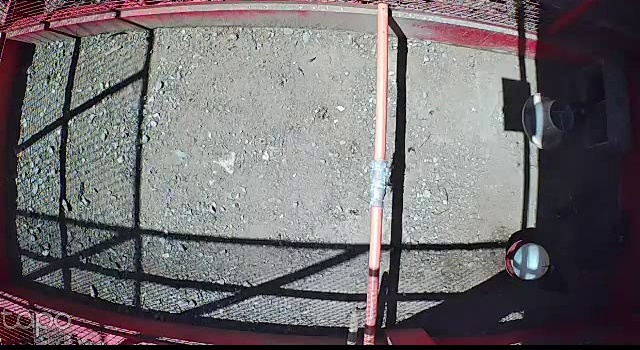Drinker: (504, 239, 550, 281)
Feeder: (521, 91, 577, 152)
